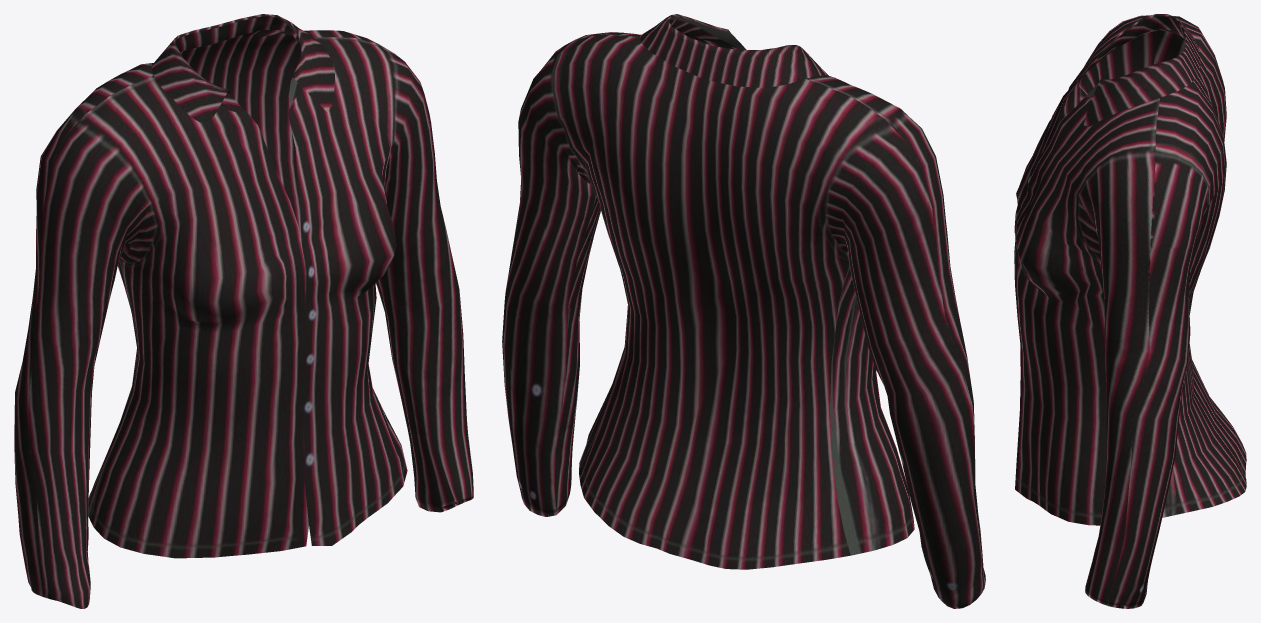
File: top_striped_blouse.gltf
3 renders of one model, left to right at view 1: azimuth 30°, elevation 25°; view 2: azimuth 150°, elevation 25°; view 3: azimuth 270°, elevation 25°, orthographic. The views are drawn at different scales.
Parts seen in each view (by area): view 1: top_striped_blouse; view 2: top_striped_blouse; view 3: top_striped_blouse.
Part boxes in pixels (box(x1,y1,x2,y2)): top_striped_blouse: box(14, 14, 473, 608); top_striped_blouse: box(502, 14, 985, 608); top_striped_blouse: box(1014, 14, 1246, 608).
Bounding box in the file's own units: 0.4987 × 0.5552 × 0.243.
1 material, 1 textured.
